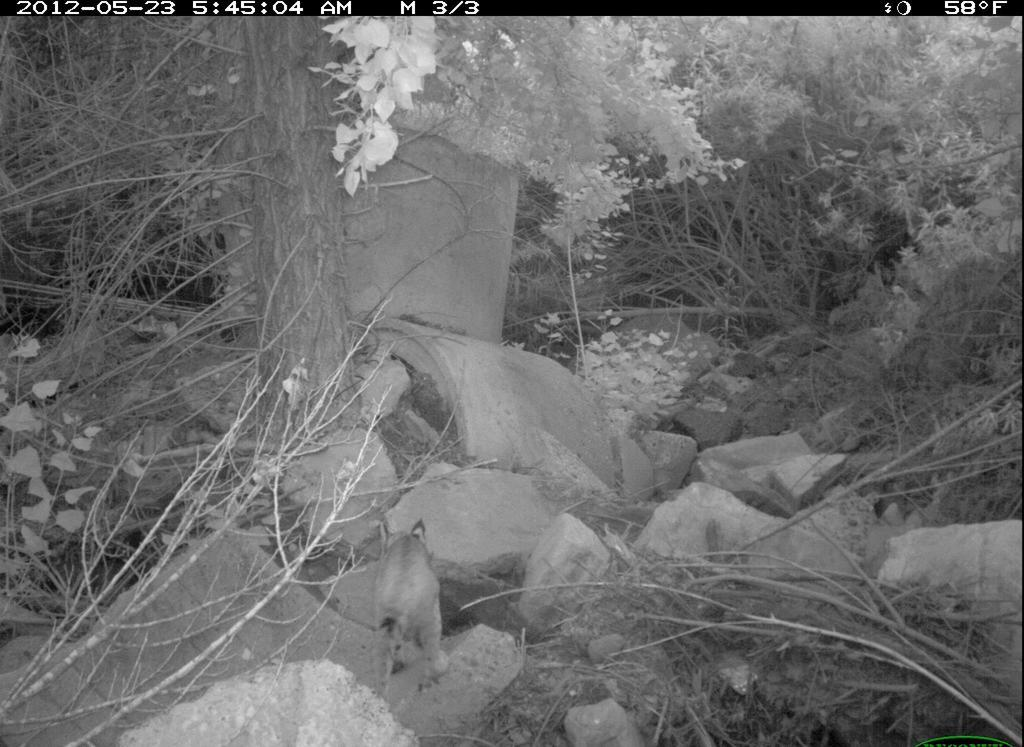bobcat: (354, 483, 486, 722)
